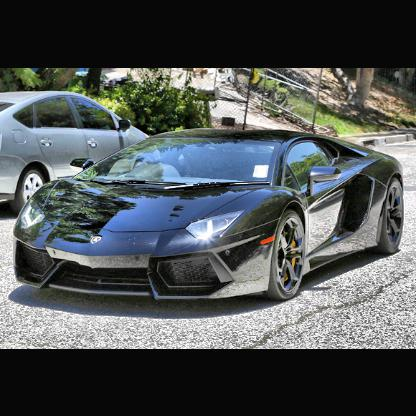Lamborghini Aventador Coupe 2012: (9, 130, 405, 307)
